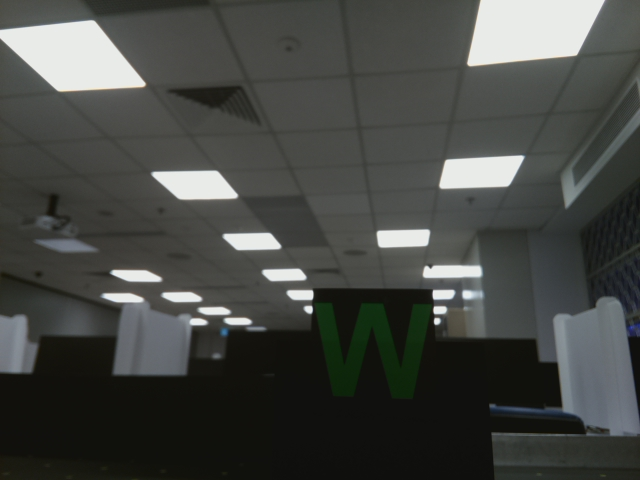w: (310, 295, 433, 401)
